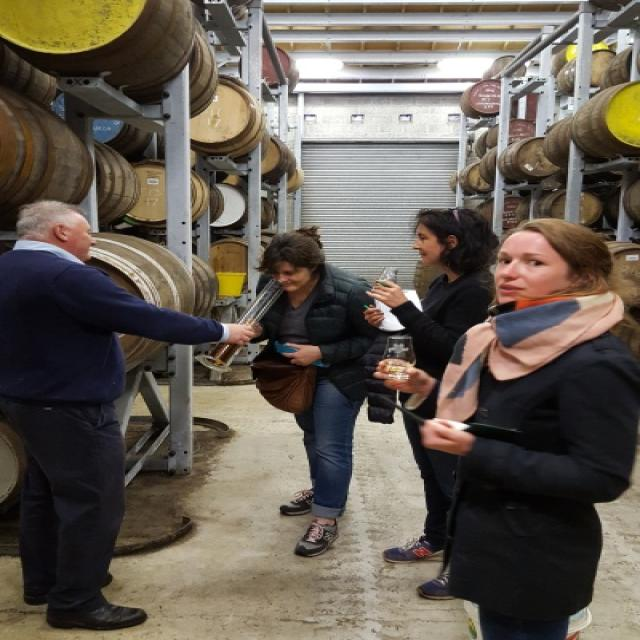body: (0, 197, 262, 634), (360, 207, 507, 602), (234, 225, 386, 566), (373, 212, 504, 604)
